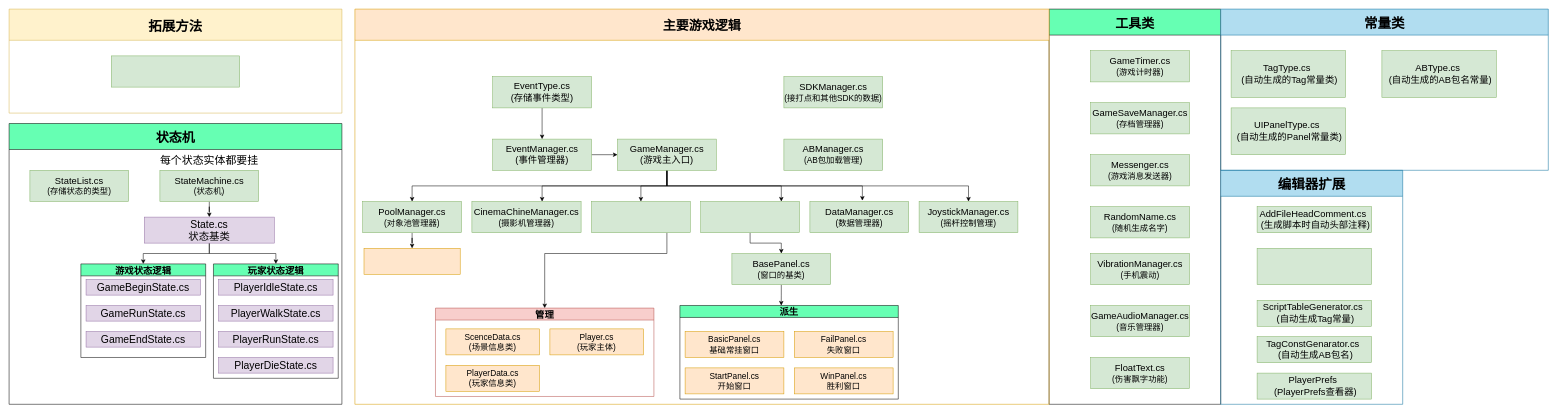
Image size: 1557x413. Some labels were removed from this diagram. The shapes that lost their labels are listed below. From the top down, each one's centre as x and y in pixels, then its label:
(175,71): CsharpObjectExtension.cs (对一些基本类的拓展方法)
(640,217): GameWorldManager.cs (世界管理器)
(750,217): UIManager.cs (UI窗口管理器)
(411,261): ObjectPool.cs (对象池类)
(1314,266): ScriptTableGenerator.cs (自动生成UIPanel对应数据)
